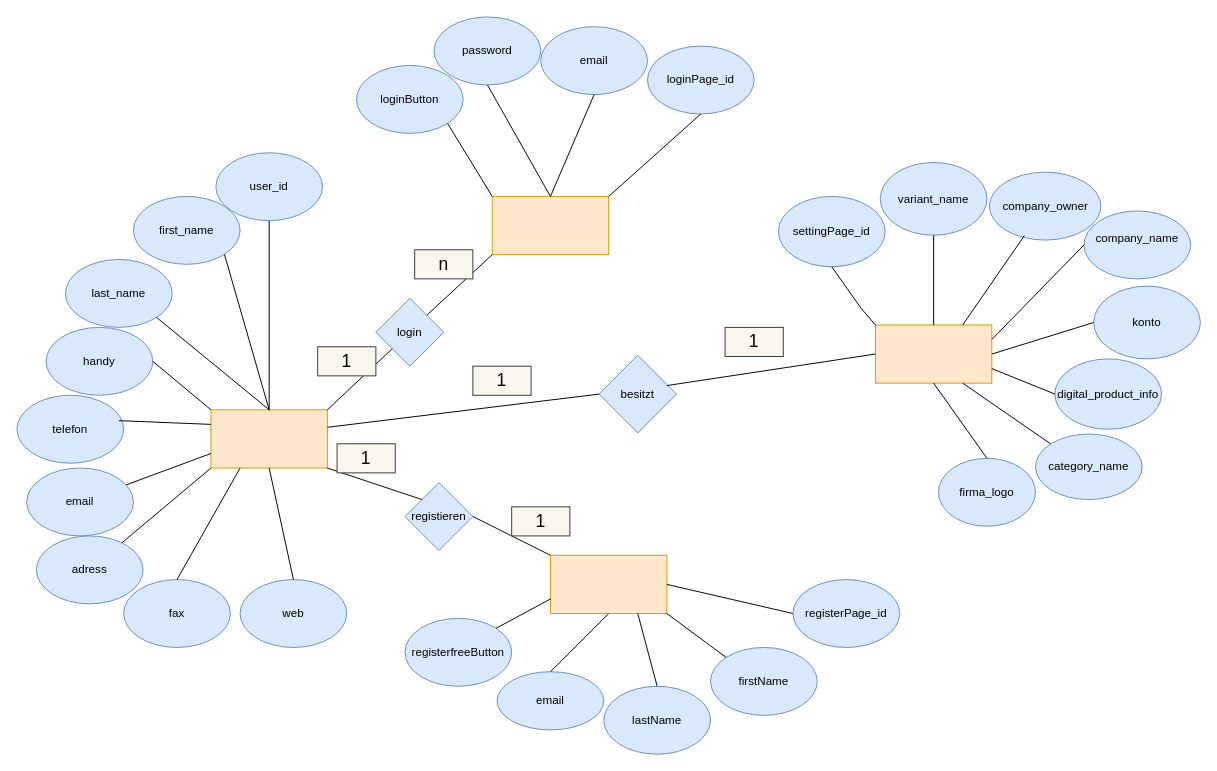
Image size: 1217x771. Some labels were removed from this diagram. The centre of each missing label's shape, as x and y in pixels:
loginPage: pixel 550 225
registerPage: pixel 608 584
settingPage: pixel 933 353
users: pixel 268 438
